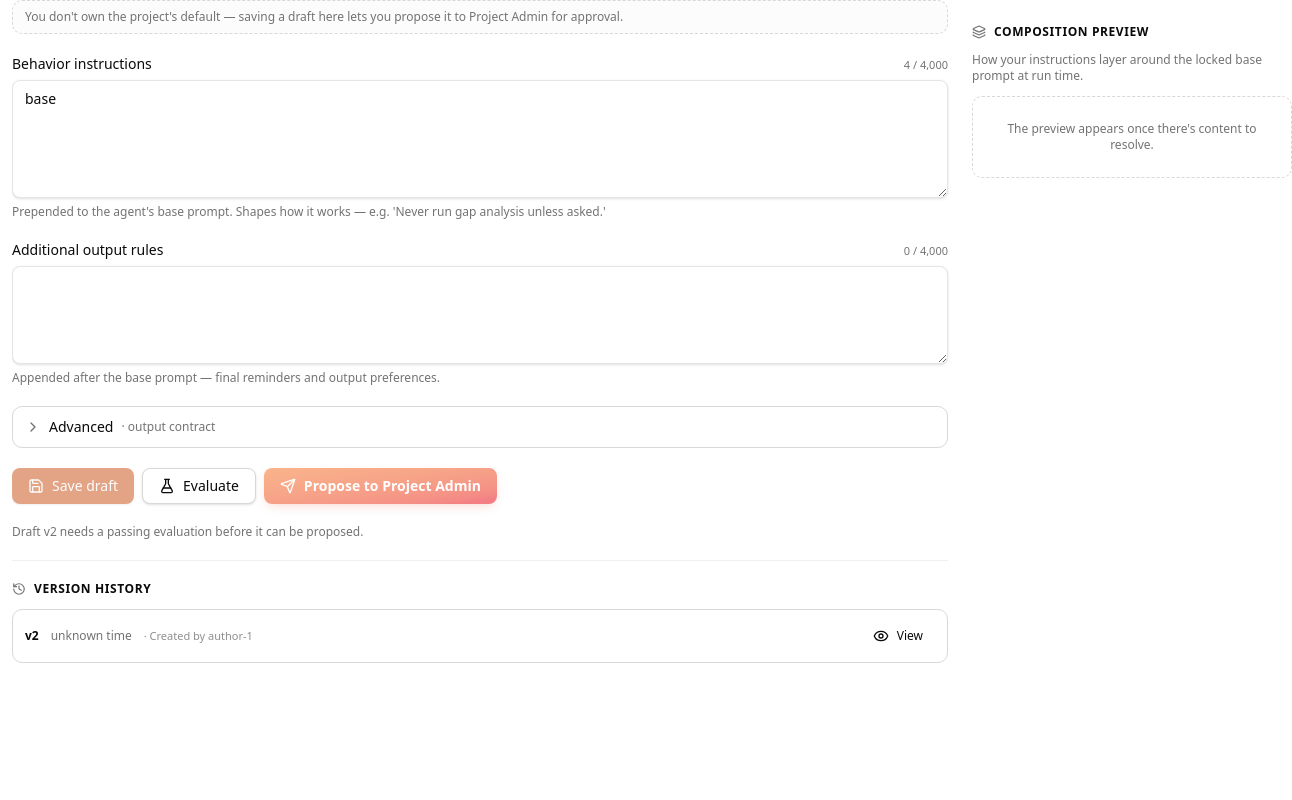
Test: BehaviorTab evaluation-gated Propose › disables Propose until a passing evaluation exists for the current draft, and enables it after Evaluate returns pass
Expected: the button "Propose to Project Admin" is disabled, top-left (264, 468), bottom-right (497, 504)
Click the button "Evaluate" at (199, 486), box top-left (142, 468), bottom-right (256, 504)
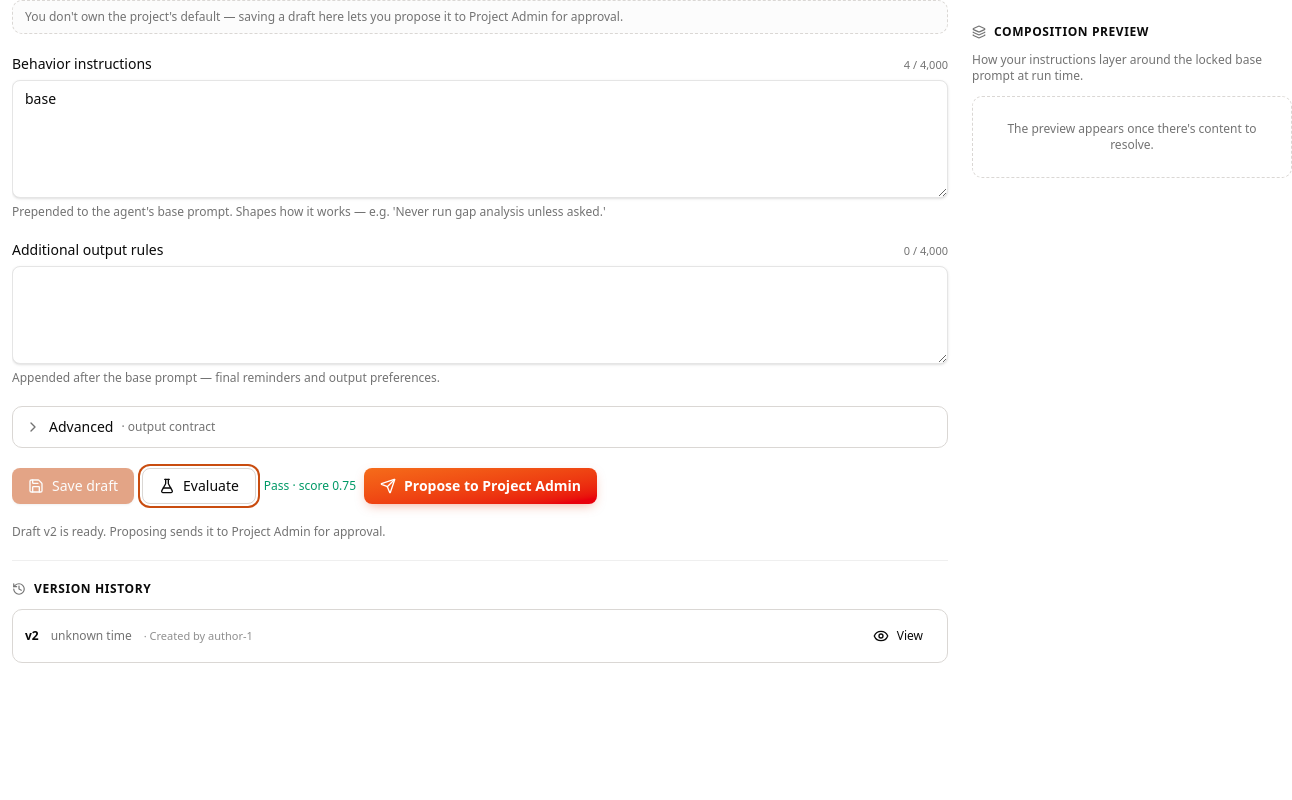
Now the text "Pass · score 0.75" is shown, box top-left (264, 478), bottom-right (356, 494)
Now the button "Propose to Project Admin" is enabled, box top-left (364, 468), bottom-right (597, 504)
